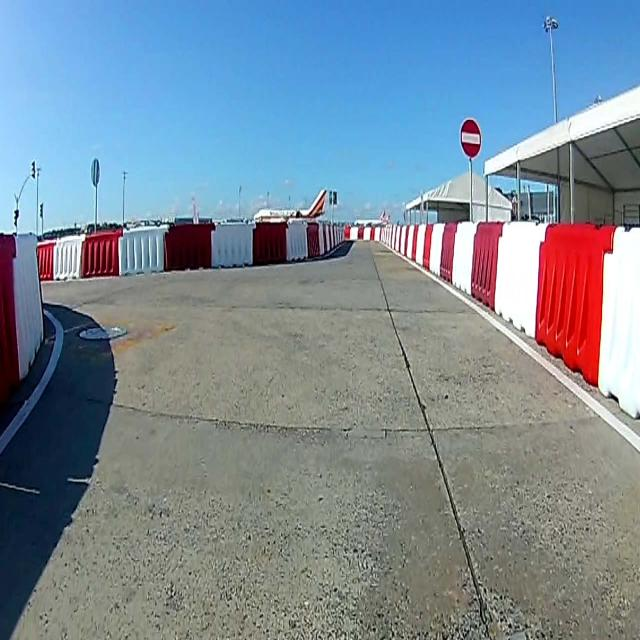girisyok: (460, 118, 482, 159)
